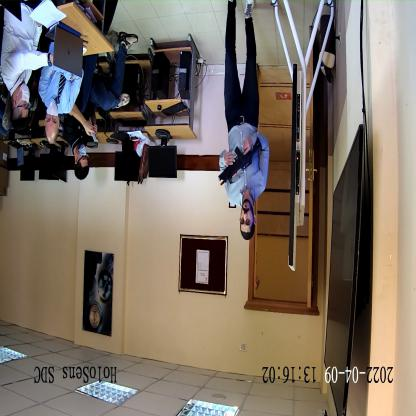handgun: (220, 132, 262, 184)
